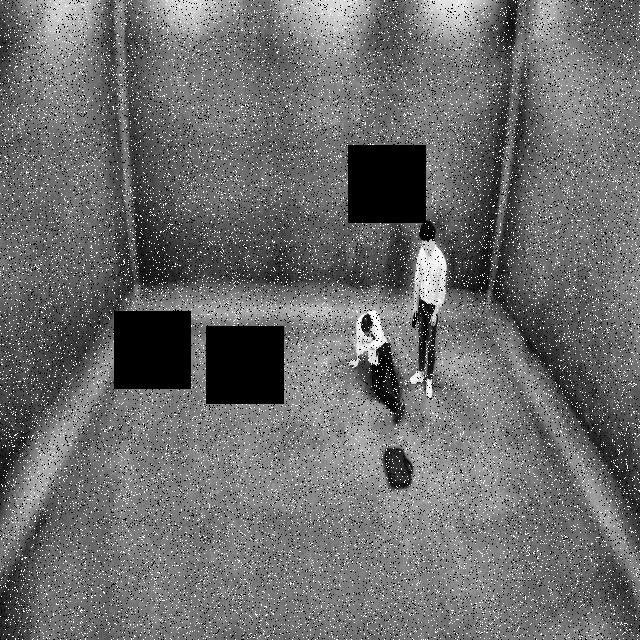assult: (334, 215, 459, 424), (346, 296, 413, 421)
